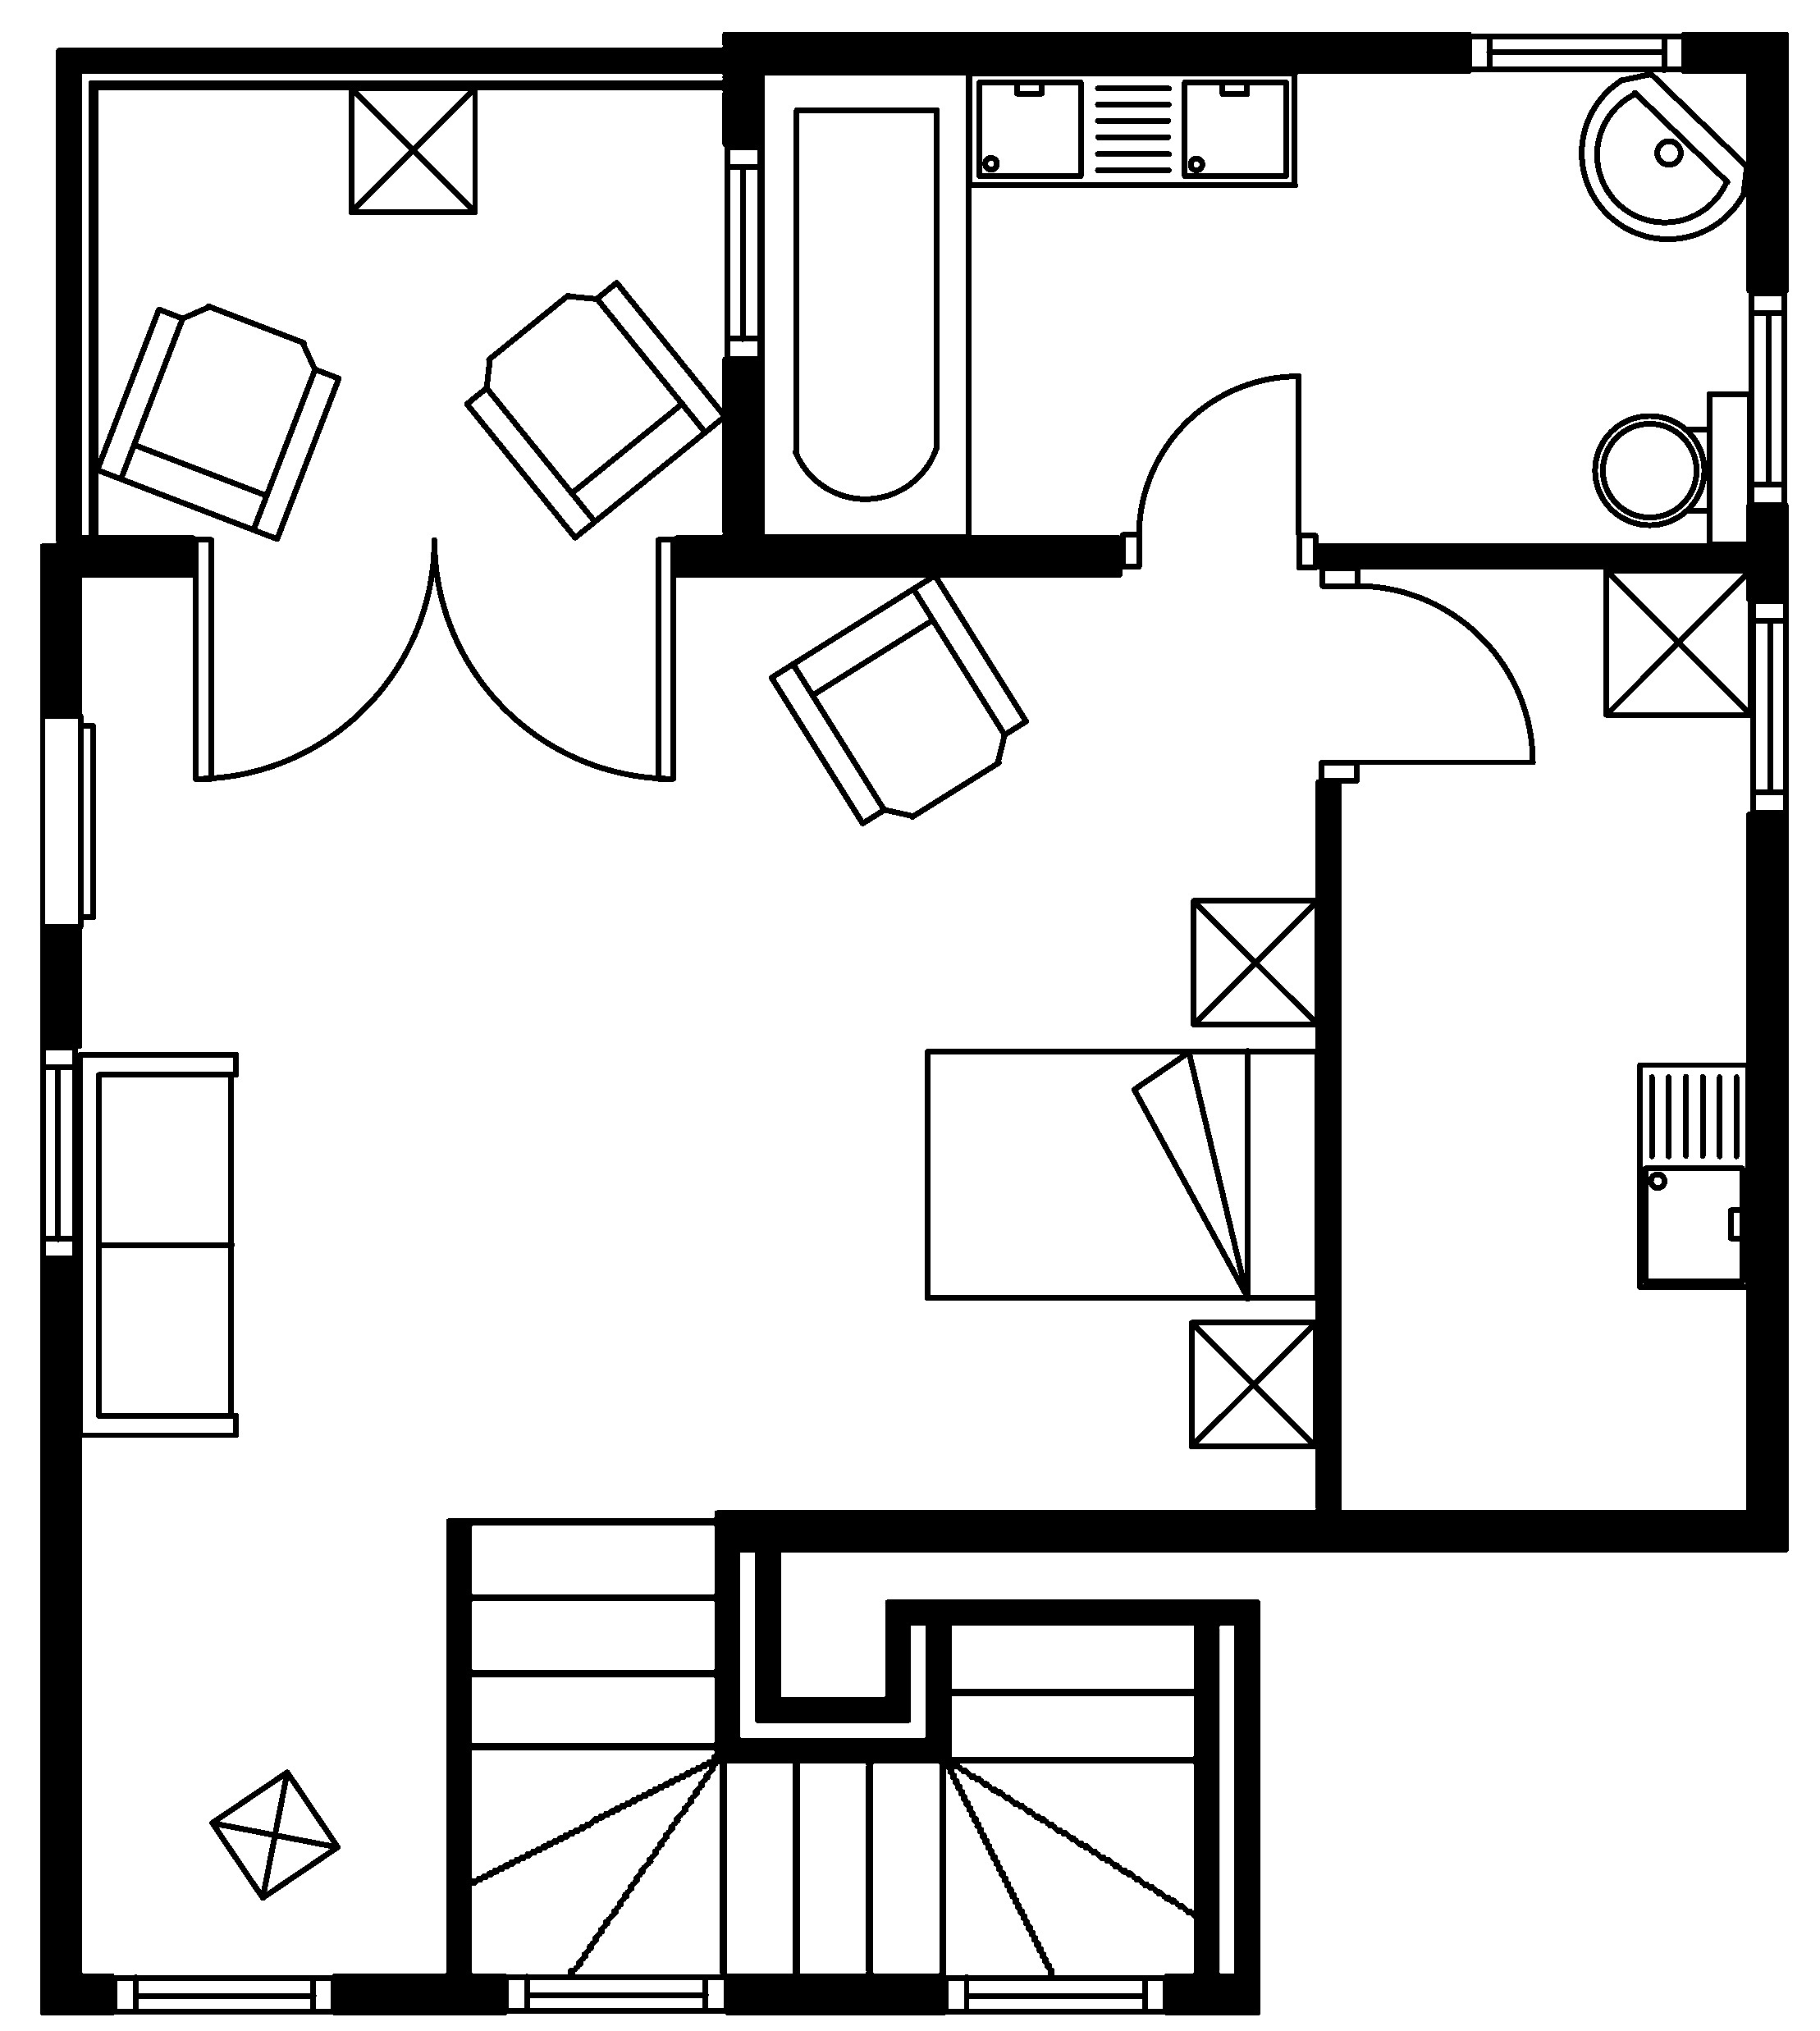armchair: (462, 278, 727, 541), (768, 571, 1029, 826), (93, 302, 341, 543)
bed: (922, 1047, 1321, 1302)
coffee_table: (1602, 566, 1753, 719), (207, 1767, 341, 1901), (1186, 1318, 1319, 1449), (1189, 896, 1321, 1028), (346, 84, 478, 214)
large_sink: (1592, 388, 1753, 548)
large_sofa: (76, 1051, 239, 1439)
sink: (1636, 1059, 1751, 1290)
small_sink: (1578, 70, 1750, 241)
tub: (757, 69, 971, 539)
twin_sink: (964, 69, 1298, 188)
